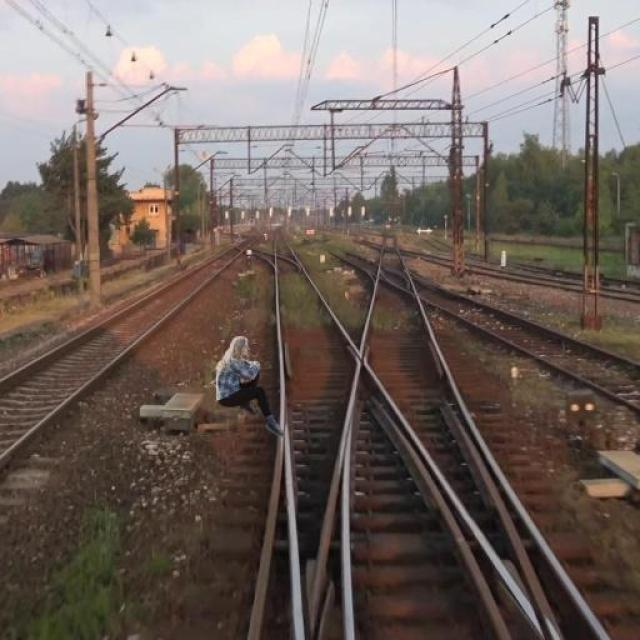people: (213, 327, 284, 450)
